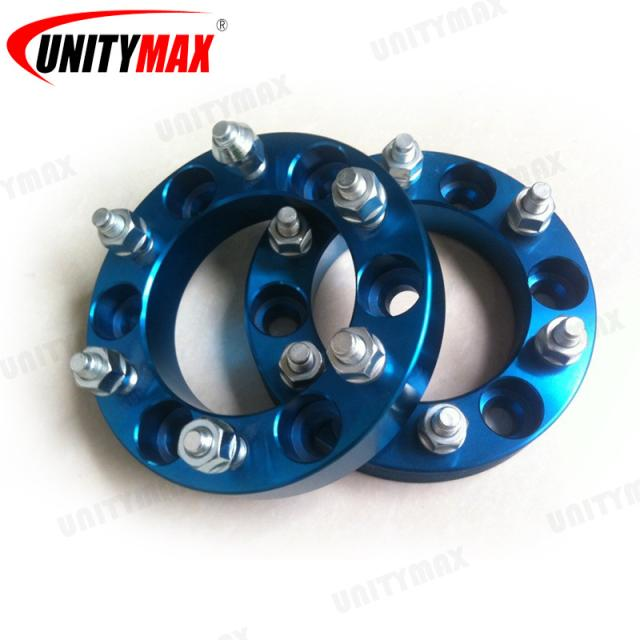bolt nut: (172, 412, 238, 476), (322, 322, 389, 384), (66, 339, 127, 398), (86, 200, 148, 258), (327, 163, 387, 221), (415, 400, 472, 457), (270, 336, 326, 392), (536, 310, 590, 368), (263, 205, 319, 258), (506, 178, 560, 232), (376, 133, 426, 179)
